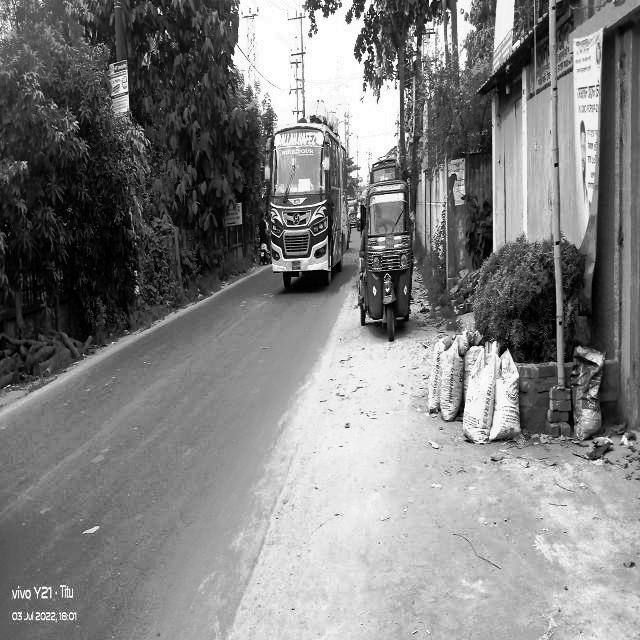Bus: (257, 86, 357, 305)
